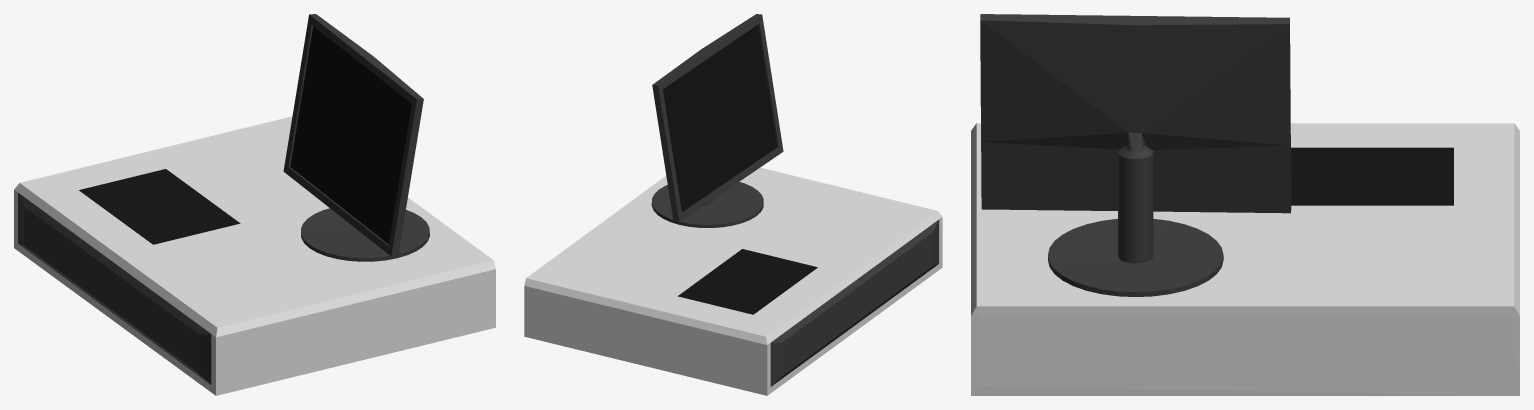
The model's file is Cashier.fbx.
3 views of the same model, side by side, from view 1: azimuth 30°, elevation 25°; view 2: azimuth 150°, elevation 25°; view 3: azimuth 270°, elevation 25° (orthographic). The views are drawn at different scales.
Visible parts, largest first — view 1: Body, Box; view 2: Body, Box; view 3: Body.
Part boxes in pixels (x1,y1,x2,y2): Body: (14, 14, 495, 395); Box: (18, 192, 211, 385); Body: (524, 14, 942, 395); Box: (770, 219, 938, 386); Body: (971, 14, 1519, 395).
Size of the model in its own units: 16214 by 13353 by 20000.
Materials: 1 (1 with a texture image).
